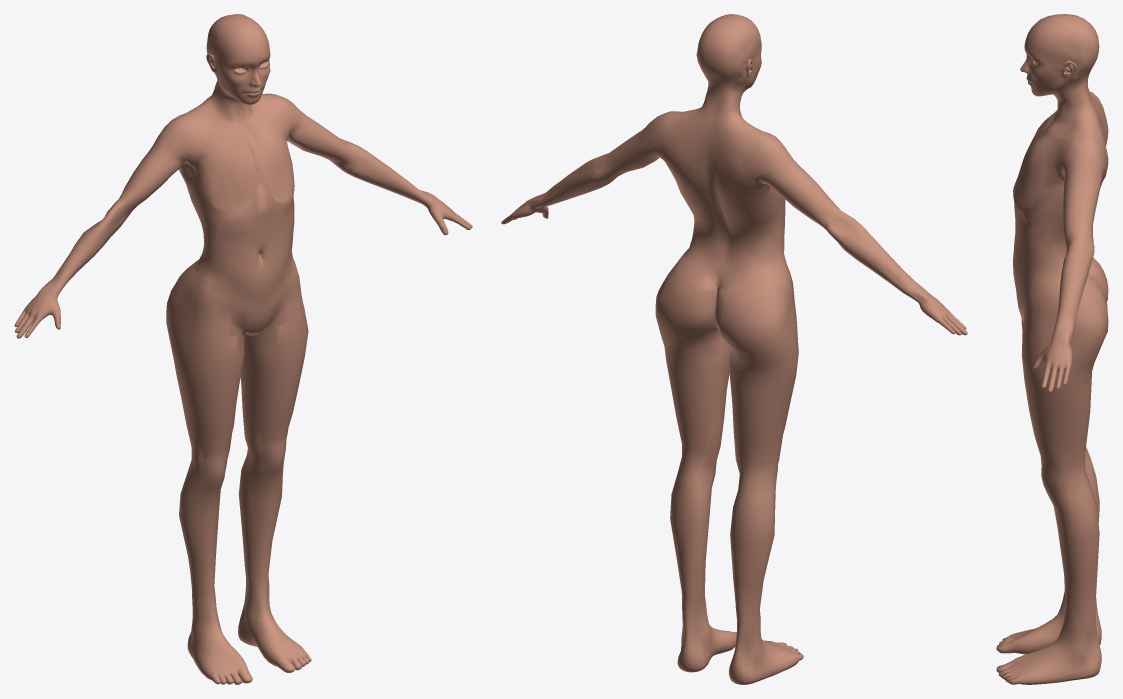
File: medium_body.fbx
3 views of the same model, side by side, from view 1: azimuth 30°, elevation 25°; view 2: azimuth 150°, elevation 25°; view 3: azimuth 270°, elevation 25° (orthographic).
Parts seen in each view (by area): view 1: barefoot001; view 2: barefoot001; view 3: barefoot001.
Boxes of the visible parts, x1,y1,x2,y2 form: barefoot001: (14,14,472,684); barefoot001: (501,14,967,684); barefoot001: (996,14,1108,684).
Bounding box in the file's own units: 10331 × 13810 × 2172.
